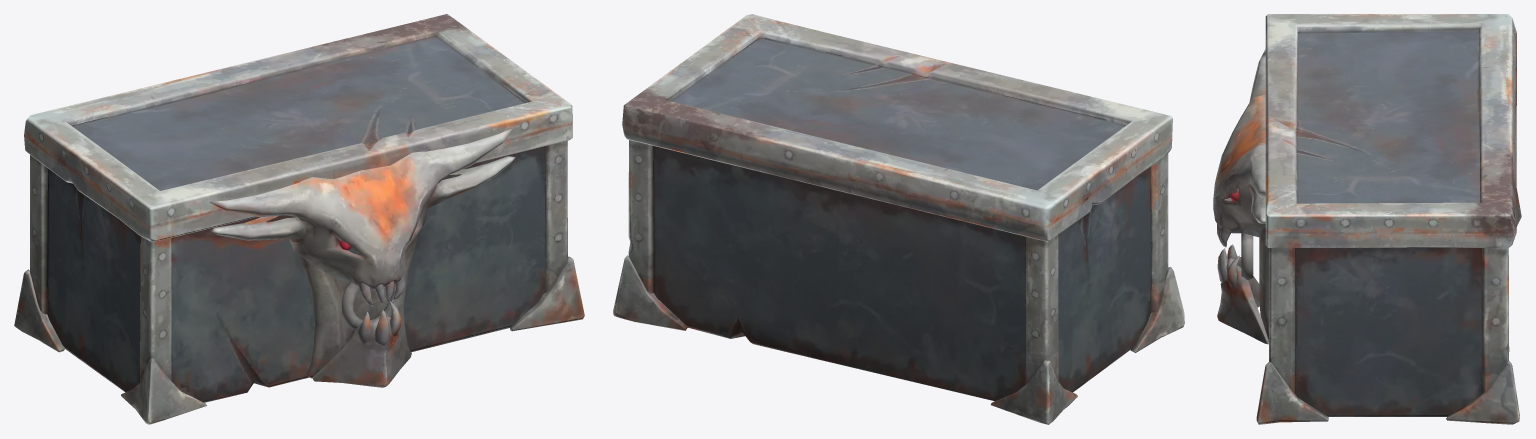
3 views of the same model, side by side, from view 1: azimuth 30°, elevation 25°; view 2: azimuth 150°, elevation 25°; view 3: azimuth 270°, elevation 25° (orthographic). The views are drawn at different scales.
Parts seen in each view (by area): view 1: SM_Bandosian_Reliquery_01_LOD0; view 2: SM_Bandosian_Reliquery_01_LOD0; view 3: SM_Bandosian_Reliquery_01_LOD0.
Part boxes in pixels (left/top/right/bottom): SM_Bandosian_Reliquery_01_LOD0: left=14, top=14, right=584, bottom=424; SM_Bandosian_Reliquery_01_LOD0: left=613, top=14, right=1184, bottom=424; SM_Bandosian_Reliquery_01_LOD0: left=1213, top=14, right=1521, bottom=424.
Size of the model in its own units: 1.07 by 0.5025 by 0.6663.
1 material, 1 textured.
